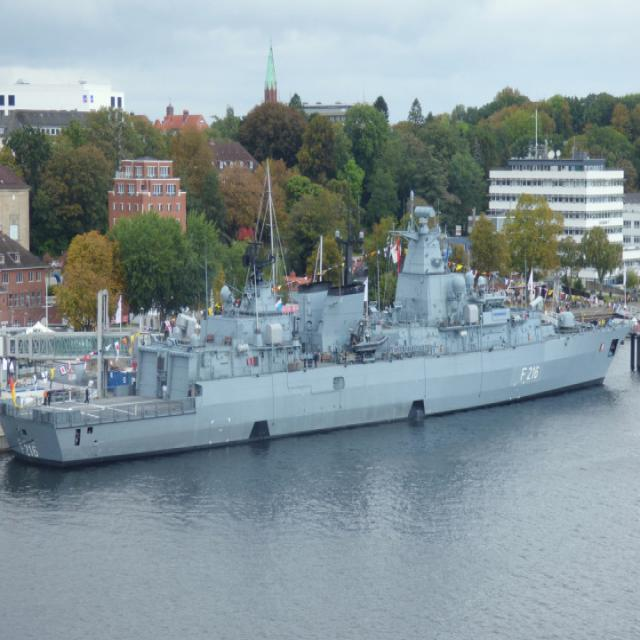Fragata: (1, 198, 640, 476)
